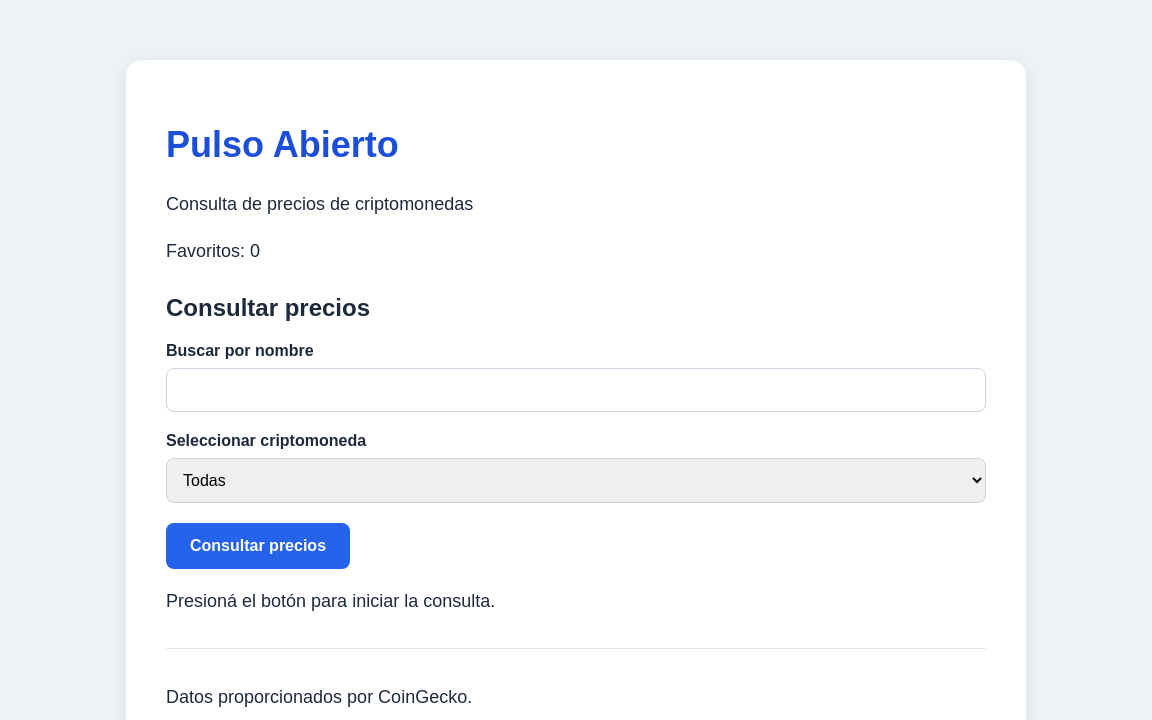
Consulta de criptomonedas › muestra error y permite reintentar
Click the button "Consultar precios": (258, 546) left=166, top=523, right=350, bottom=569
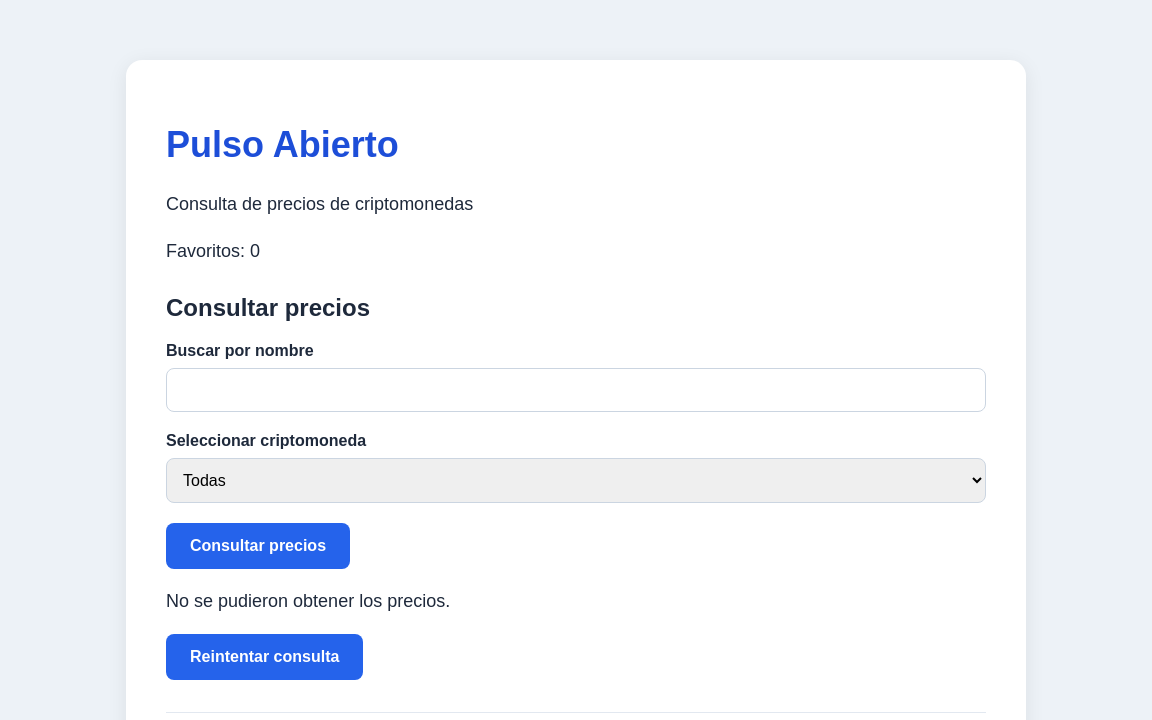
Result: the text "No se pudieron obtener los precios." is shown at left=166, top=591, right=450, bottom=611
Click the button "Reintentar consulta": (265, 656) left=166, top=634, right=363, bottom=680
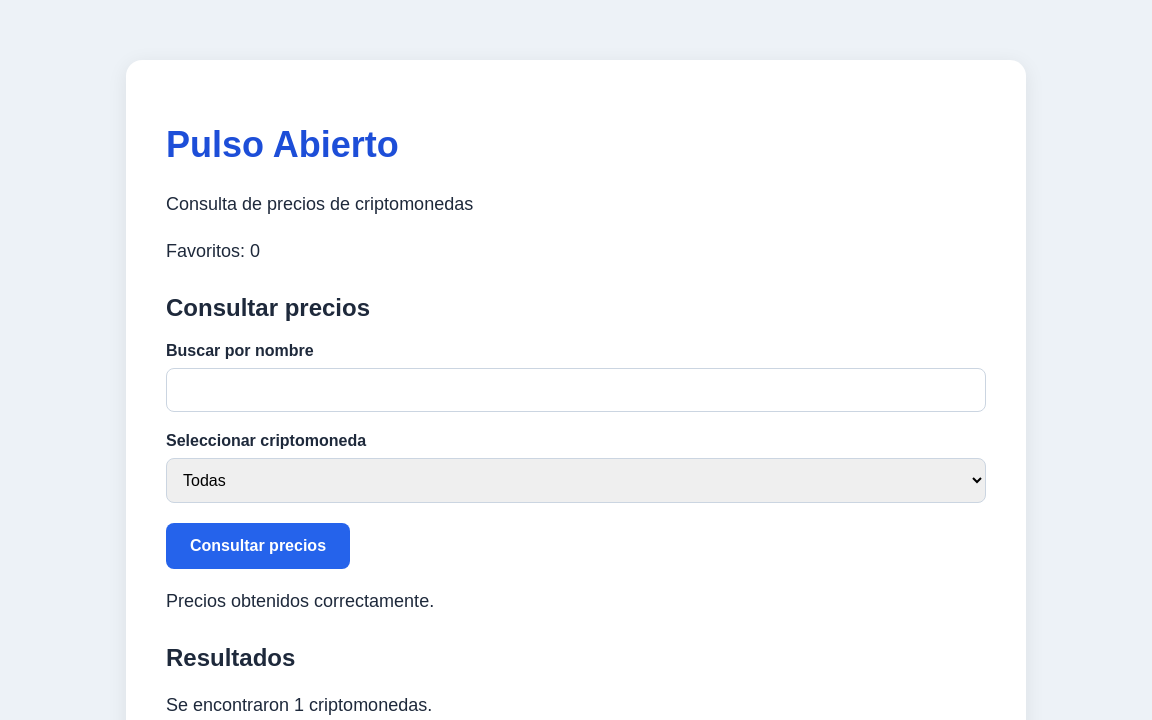
Result: the text "Precios obtenidos correctamente." is shown at left=166, top=591, right=434, bottom=611
